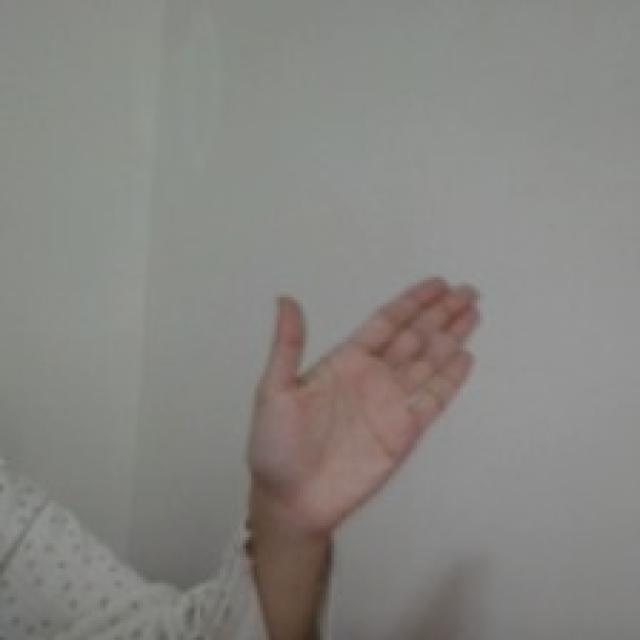Hello: (237, 266, 488, 537)
